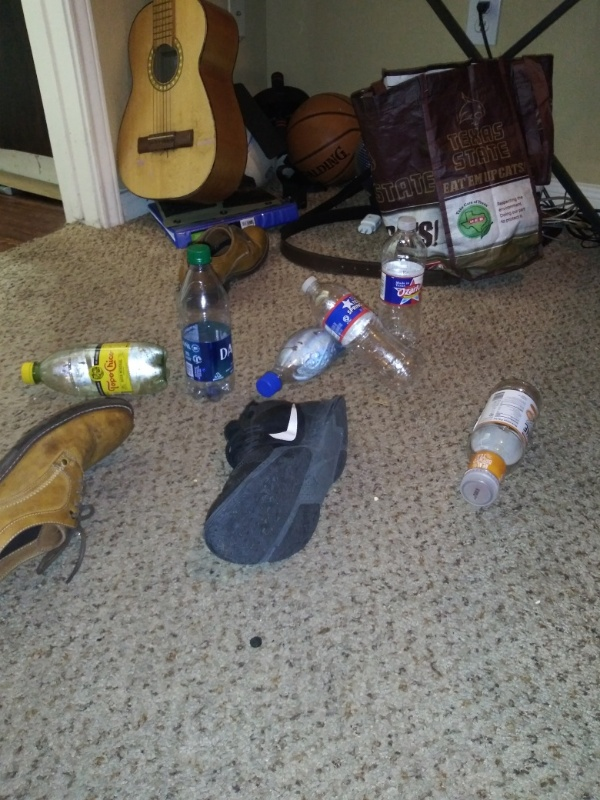bottle: (295, 274, 425, 394), (455, 373, 548, 512), (173, 243, 239, 405), (17, 338, 174, 402), (253, 325, 350, 401), (375, 213, 426, 344)
